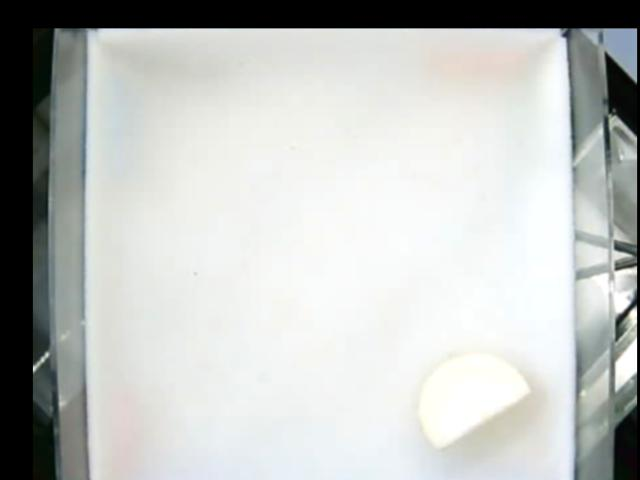Mooli: (418, 352, 533, 445)
